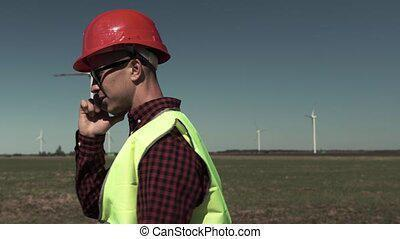helmet: (73, 8, 172, 73)
